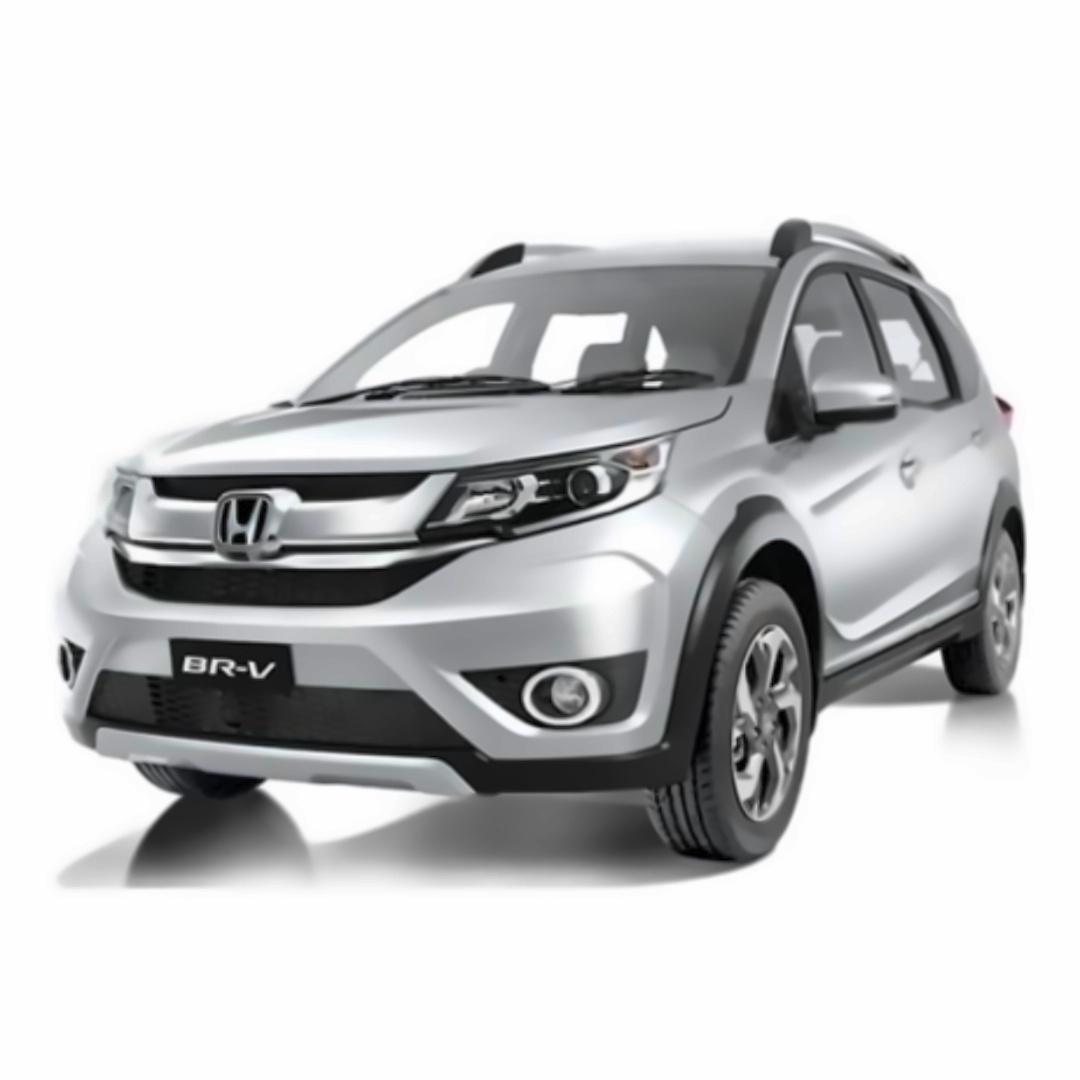Car hood: (113, 382, 737, 479)
Fender - -F-L-: (634, 379, 836, 738)
Front bumper: (57, 489, 725, 799)
Headlight - -L-: (414, 429, 679, 547)
Passenger-s door - -F-L-: (762, 219, 928, 725)
Passenger-s door - -R-L-: (855, 237, 995, 714)
Side bumper - -L-: (812, 575, 987, 735)
Side mirror - -L-: (769, 364, 900, 451)
